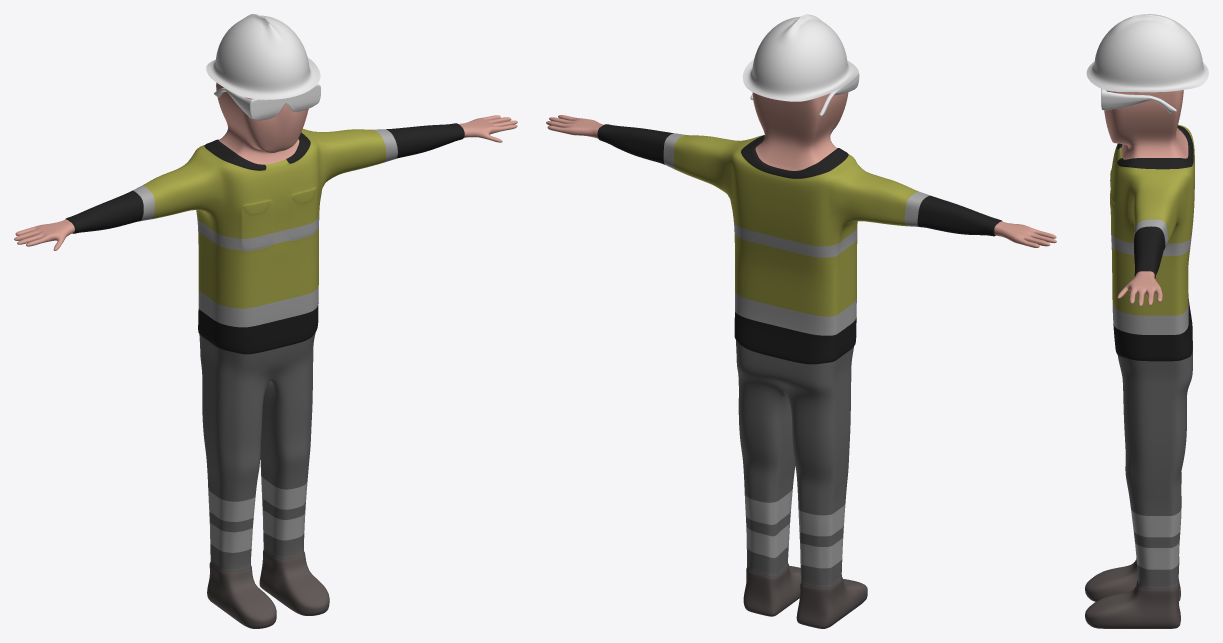
The model's file is Worker_Improved.fbx.
3 views of the same model, side by side, from view 1: azimuth 30°, elevation 25°; view 2: azimuth 150°, elevation 25°; view 3: azimuth 270°, elevation 25° (orthographic).
Visible parts, largest first — view 1: Worker1; view 2: Worker1; view 3: Worker1.
Boxes of the visible parts, x1,y1,x2,y2 form: Worker1: [14, 14, 517, 628]; Worker1: [546, 14, 1056, 628]; Worker1: [1085, 14, 1208, 628].
Bounding box in the file's own units: 24.47 × 27.31 × 5.14.
